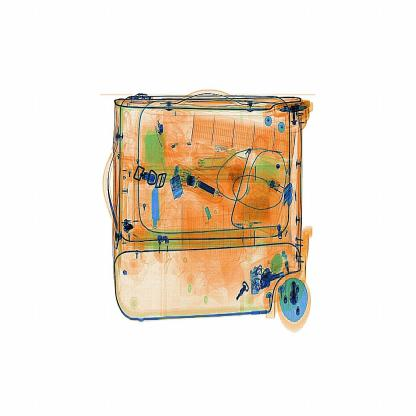wrench: (149, 185, 166, 269)
